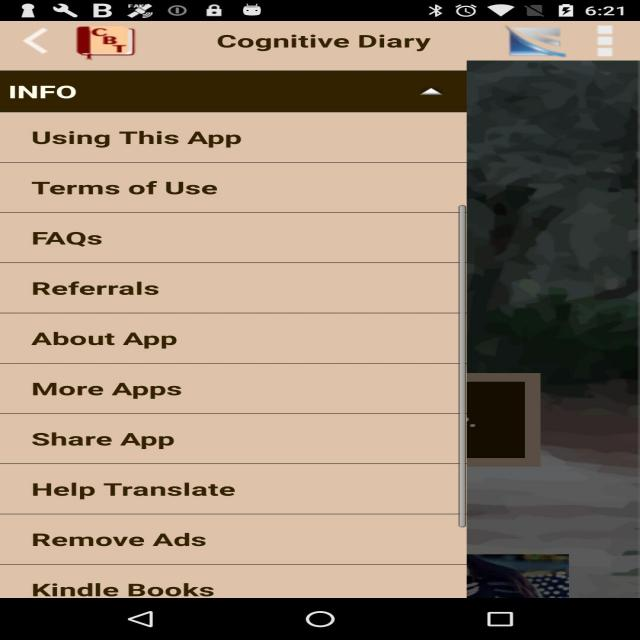icon: (1, 24, 62, 60), (582, 23, 628, 60), (398, 78, 451, 102)
image: (500, 23, 574, 61), (70, 24, 143, 60)
text: (24, 120, 291, 156), (18, 520, 236, 561), (16, 476, 254, 507), (208, 27, 443, 57), (16, 570, 242, 600), (10, 325, 218, 357), (23, 269, 190, 308), (24, 174, 240, 204), (28, 372, 210, 406), (20, 424, 202, 458), (24, 224, 147, 258), (3, 75, 86, 107)
